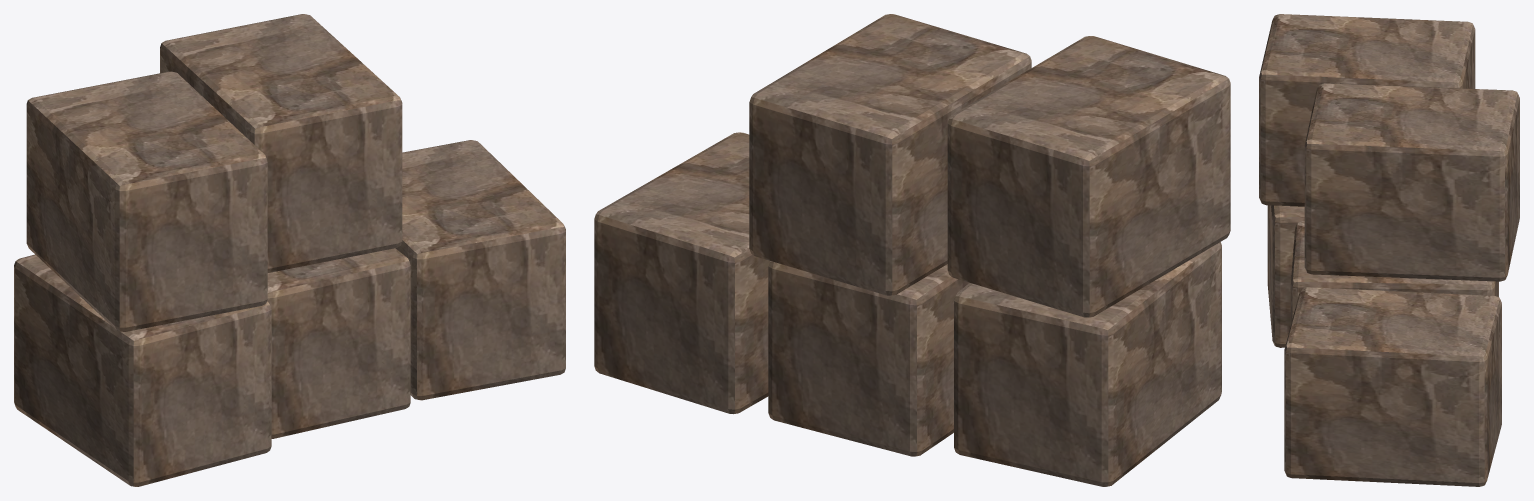
The model's file is pile-stone.glb.
The picture shows the model from 3 angles, left to right: view 1: azimuth 30°, elevation 25°; view 2: azimuth 150°, elevation 25°; view 3: azimuth 270°, elevation 25°; orthographic projection. The views are drawn at different scales.
Parts seen in each view (by area): view 1: block.004, block.001, block, block.003, block.002; view 2: block.004, block, block.001, block.003, block.002; view 3: block.003, block, block.004, block.002, block.001.
Part boxes in pixels (x1,y1,x2,y2): block.004: (26, 71, 267, 331); block.001: (14, 254, 271, 486); block: (160, 14, 402, 272); block.003: (395, 140, 565, 400); block.002: (267, 248, 410, 438); block.004: (947, 36, 1230, 317); block: (749, 14, 1031, 295); block.001: (954, 242, 1221, 486); block.003: (594, 132, 769, 414); block.002: (768, 261, 969, 456); block.003: (1284, 287, 1501, 486); block: (1304, 83, 1519, 281); block.004: (1259, 14, 1475, 206); block.002: (1290, 221, 1498, 324); block.001: (1267, 205, 1304, 347).
Bounding box in the file's own units: 1.32 × 0.81 × 0.7026.
1 material, 1 textured.
